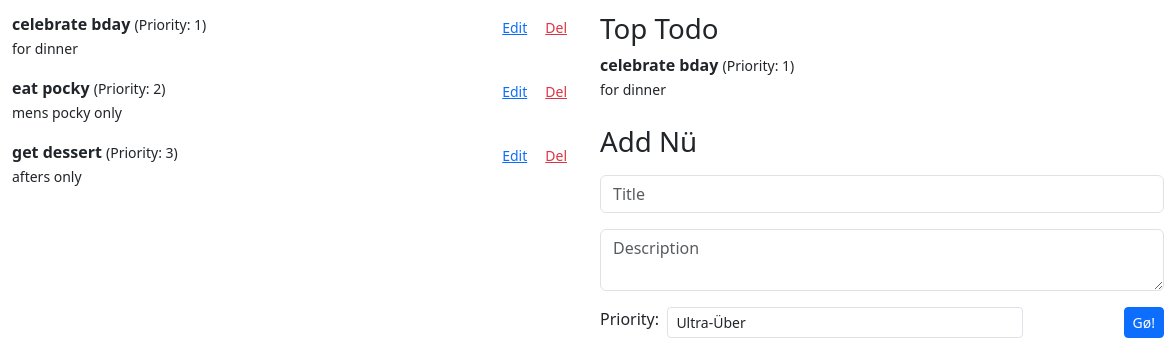
Test case: TodoApp › successfully submits a new todo
The image size is (1176, 355).
Type "Get Afters" into the field labelled "Title".
click(882, 194); type("Get Afters")  # box [600, 174, 1164, 212]
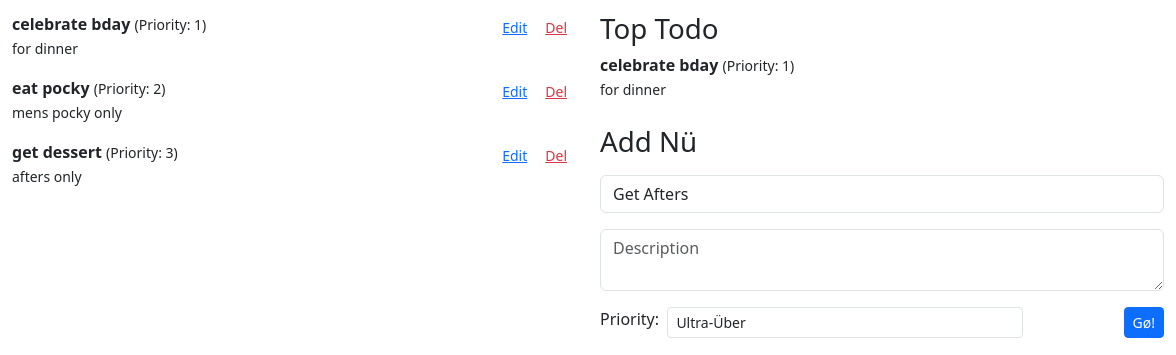
Type "BOGO!!!" into the text box labelled "Description".
click(882, 260); type("BOGO!!!")  # box [600, 228, 1164, 290]
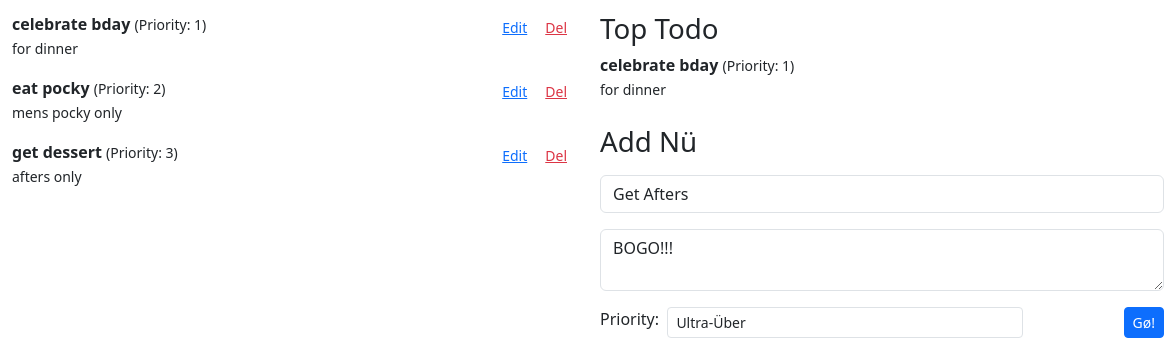
Select "Ultra-Über" in the dropdown labelled "Priority:" at (845, 322), box [667, 306, 1023, 338]
Click the button "Gø!".
click(1144, 322)  # box [1124, 306, 1164, 338]
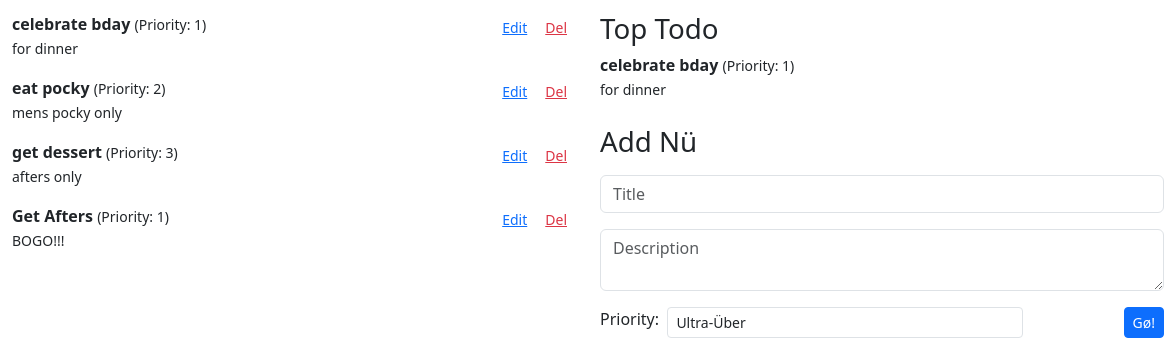
Expected: the element with class "EditableTodoList" shows "1", [194, 15, 202, 34]
Now the element with class "EditableTodoList" shows "Get Afters", box [12, 205, 93, 227]
Now the element with class "EditableTodoList" shows "BOGO!!!", box [12, 231, 64, 250]
